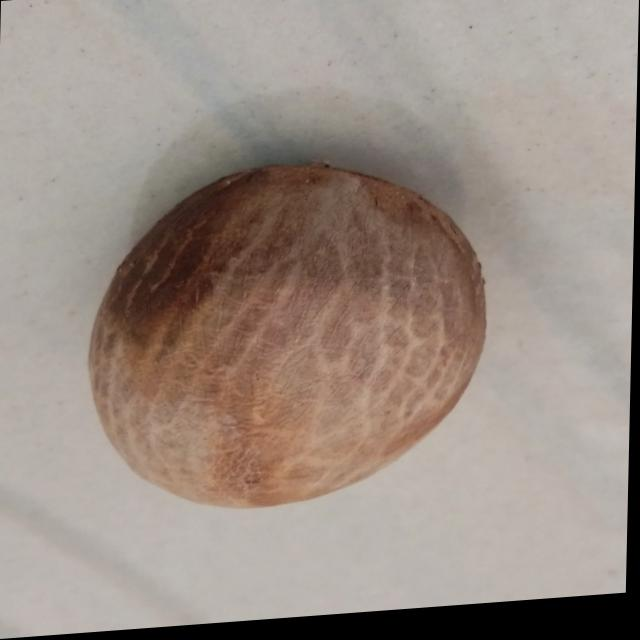karigot: (73, 134, 511, 543)
